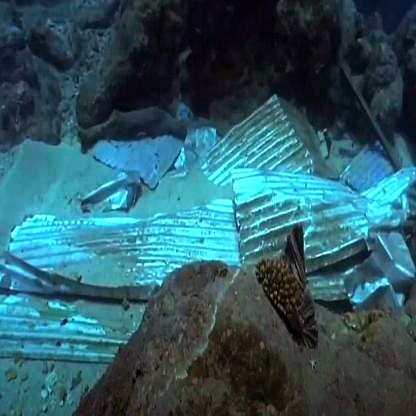metal: (247, 134, 416, 328), (14, 212, 236, 300), (1, 243, 134, 360), (215, 98, 329, 194)
